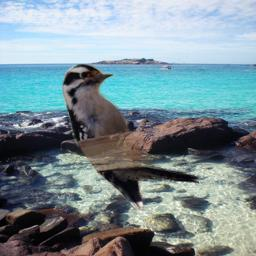Woodpecker: (62, 64, 199, 210)
